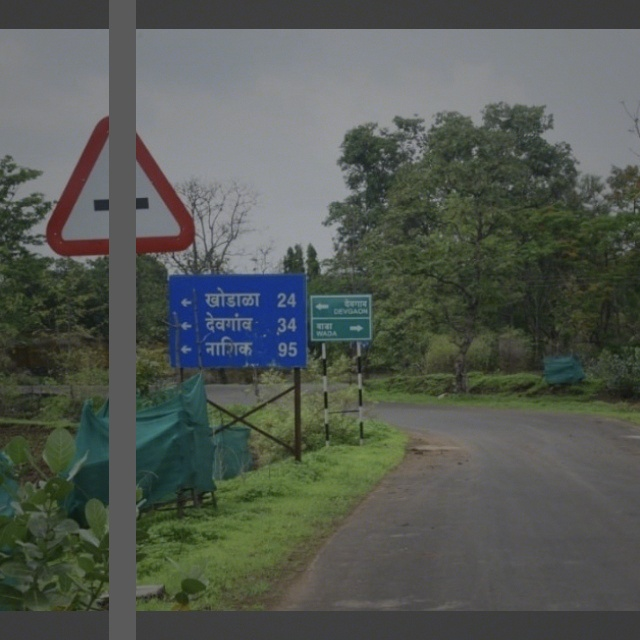T_Intersection: (48, 107, 203, 263)
